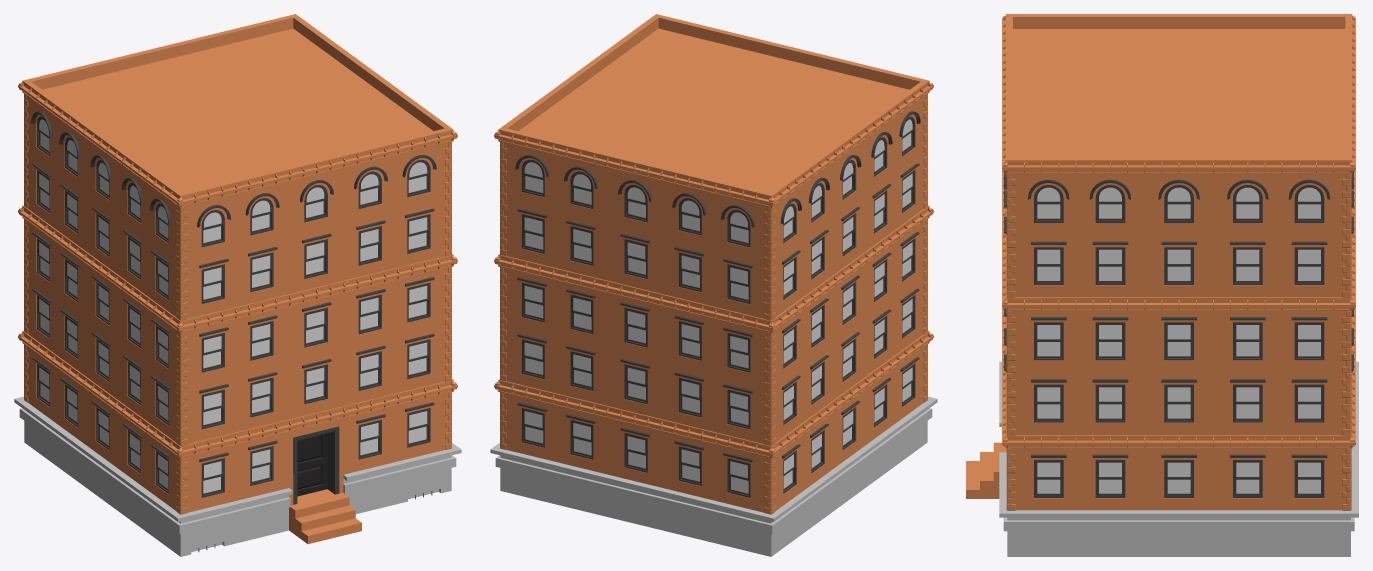
The model's file is building_1.fbx.
3 views of the same model, side by side, from view 1: azimuth 30°, elevation 25°; view 2: azimuth 150°, elevation 25°; view 3: azimuth 270°, elevation 25° (orthographic). The views are drawn at different scales.
Parts seen in each view (by area): view 1: building 1; view 2: building 1; view 3: building 1.
Part boxes in pixels (x1,y1,x2,y2): building 1: (14, 14, 461, 556); building 1: (490, 14, 937, 556); building 1: (966, 14, 1358, 556).
Bounding box in the file's own units: 1047 × 1277 × 1143.
